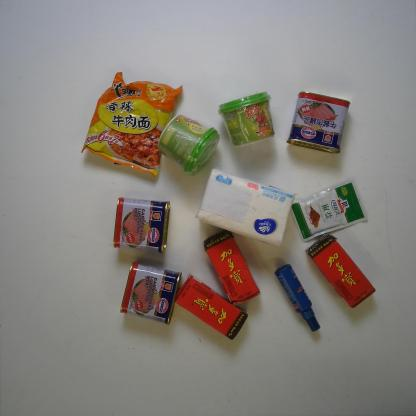Canned Food: (115, 260, 185, 326), (284, 92, 354, 155), (109, 195, 175, 256)
Drink: (299, 227, 381, 312), (199, 228, 265, 310), (174, 272, 250, 342)
Instant Drink: (154, 108, 224, 178), (213, 90, 277, 150)
Instant Noodles: (76, 71, 189, 184)
Personal Hygiene: (273, 260, 324, 334)
Seasoner: (290, 177, 372, 243)
Tissue: (194, 167, 298, 248)
